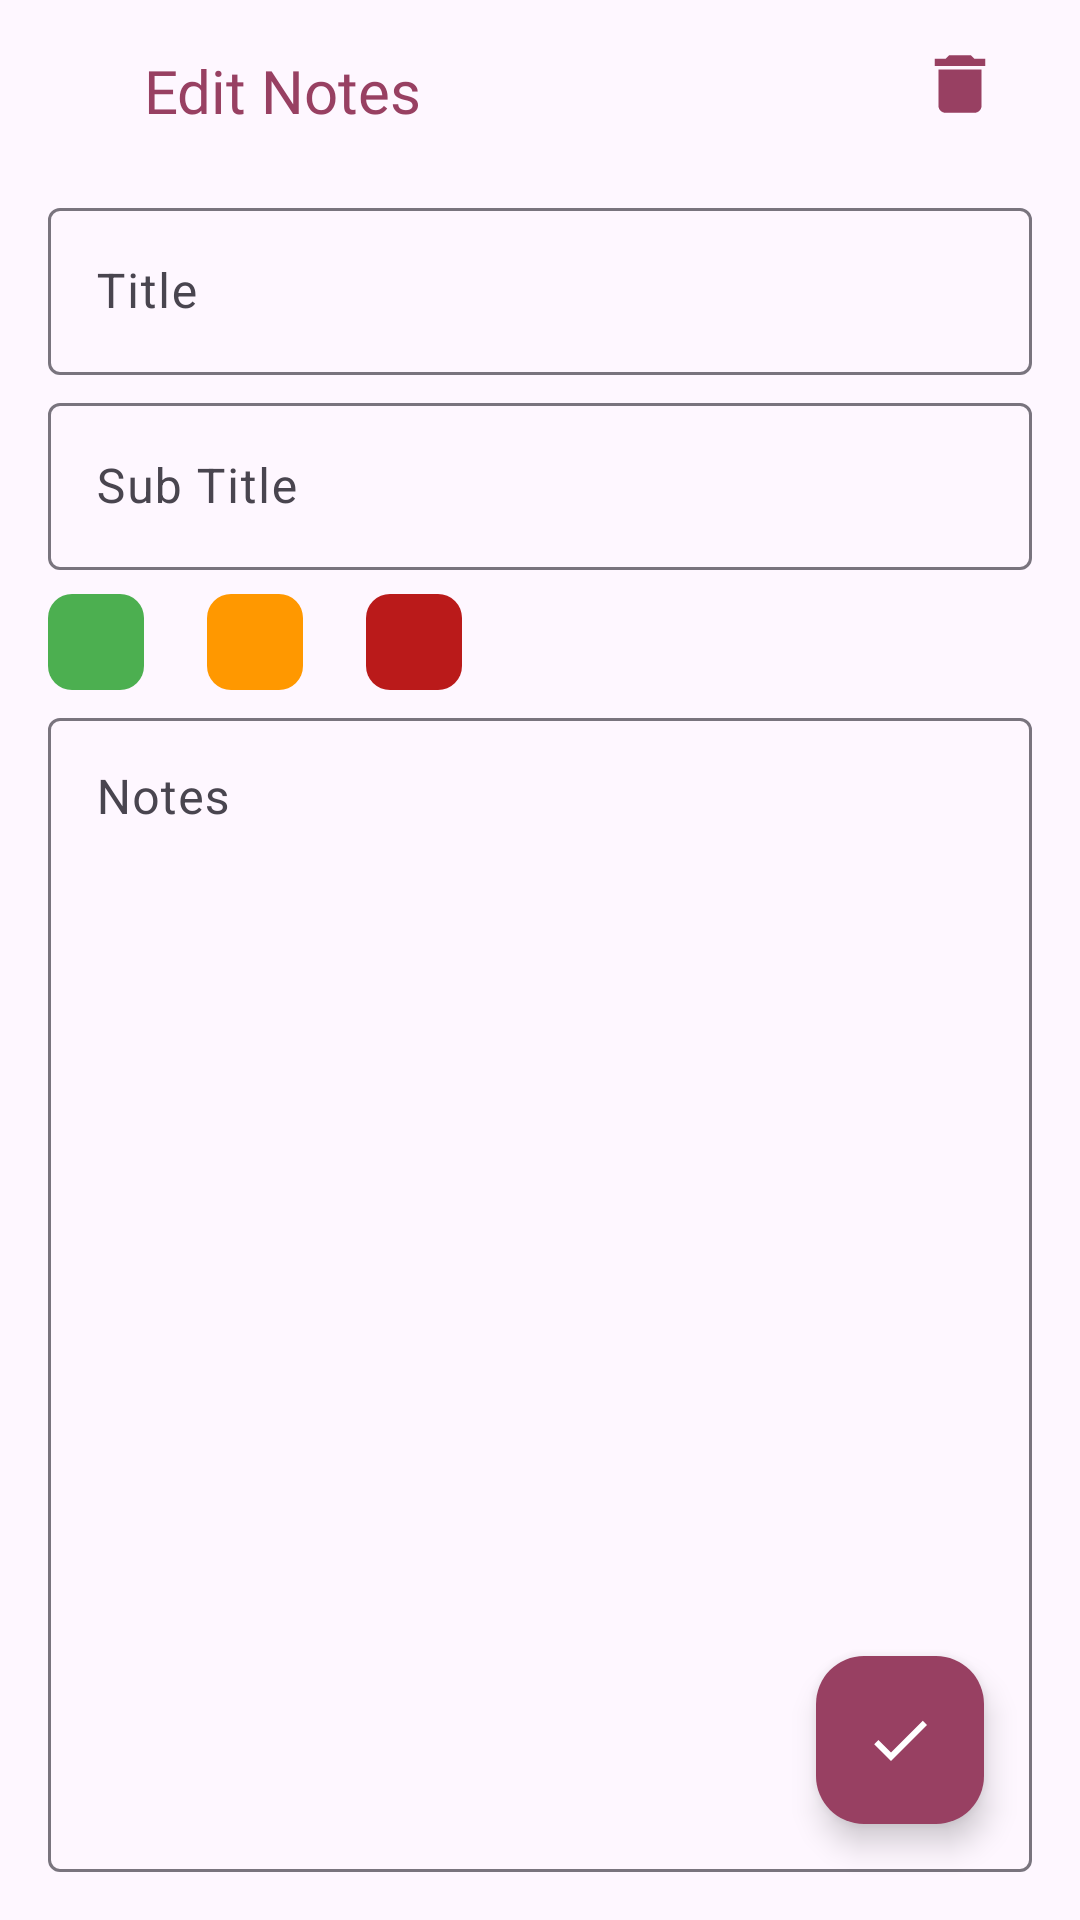

Icon bounding boxes for this 1080x1920 phone screenshot, format (x1, y1, x2, y2):
delete: (934, 55, 986, 113)
done: (816, 1656, 984, 1824)
